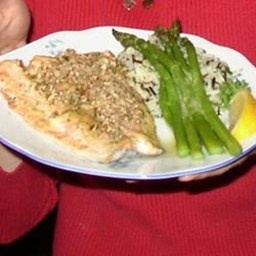background: (0, 6, 102, 66)
